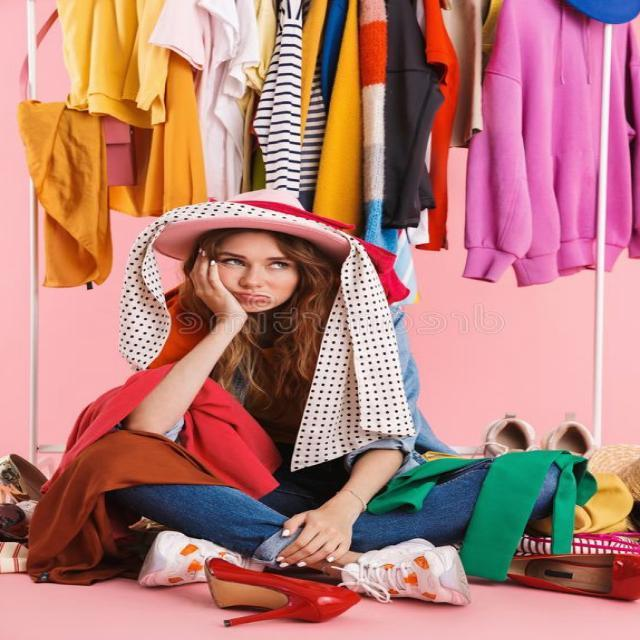clothes: (46, 25, 588, 203)
